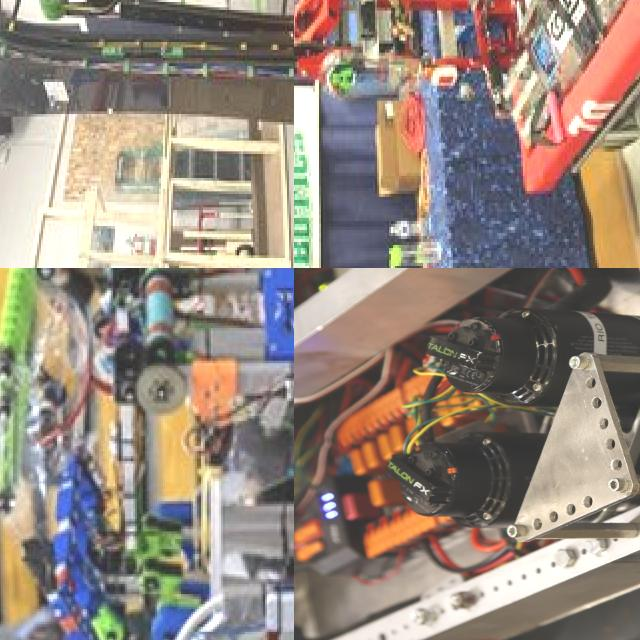FRC-Robots: (294, 268, 640, 640), (0, 0, 294, 268), (294, 0, 640, 186), (38, 268, 294, 486), (40, 502, 294, 640)
